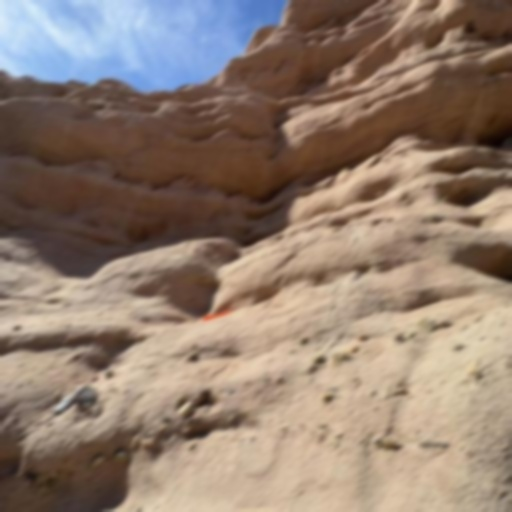mallet: (203, 310, 232, 321)
